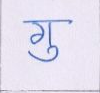u_matra: (28, 45, 61, 63)
